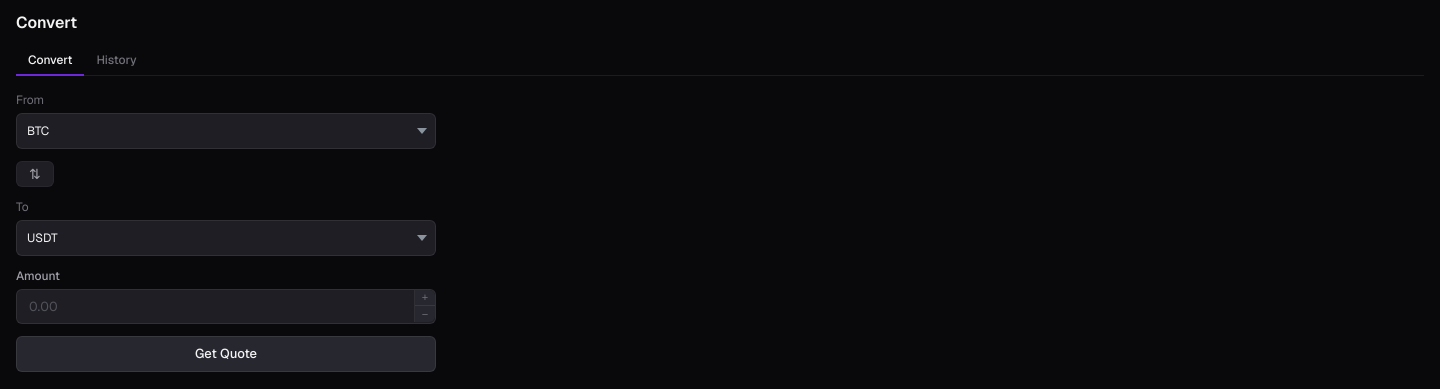
Test: ConvertPage › history tab loads and shows conversion records
The image size is (1440, 389).
Click the tab "History" at (116, 61), box [84,46,149,76]
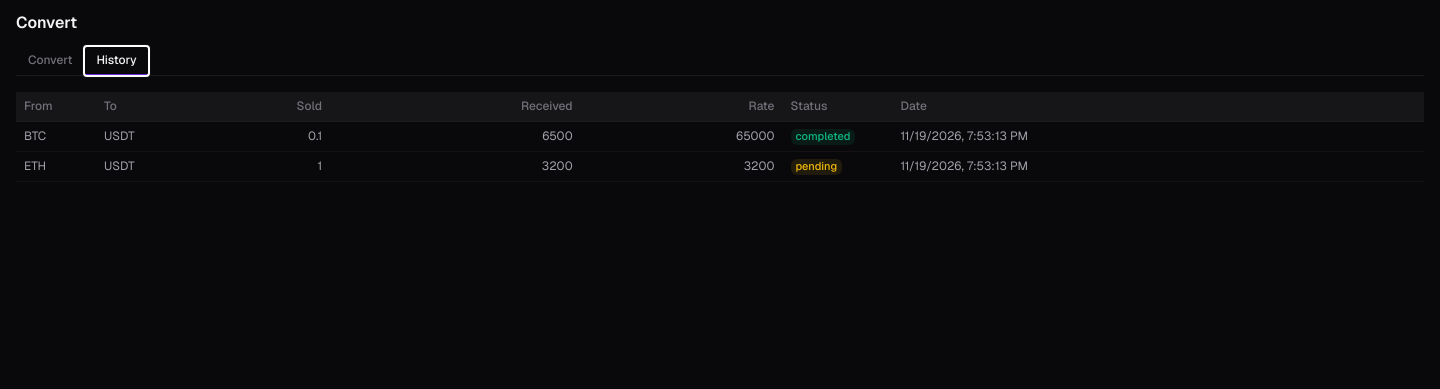
Expected: the text "BTC" is shown, [16,122,96,152]
Expected: the text "ETH" is shown, [16,152,96,181]
